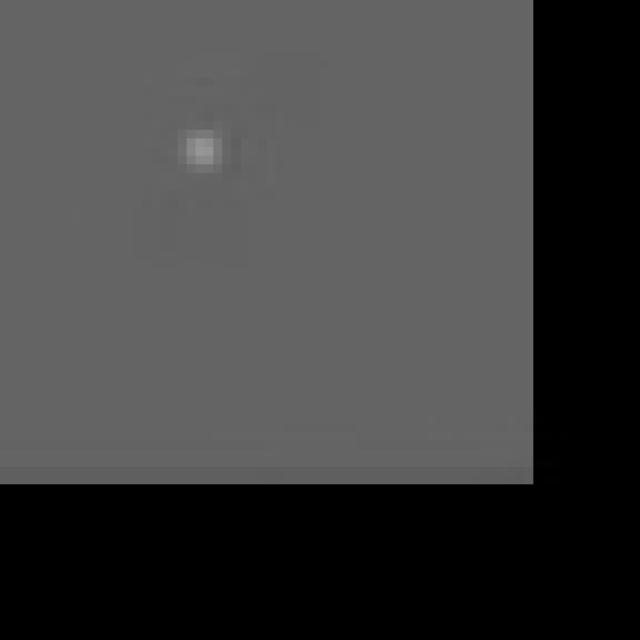Defect1: (154, 95, 258, 208)
